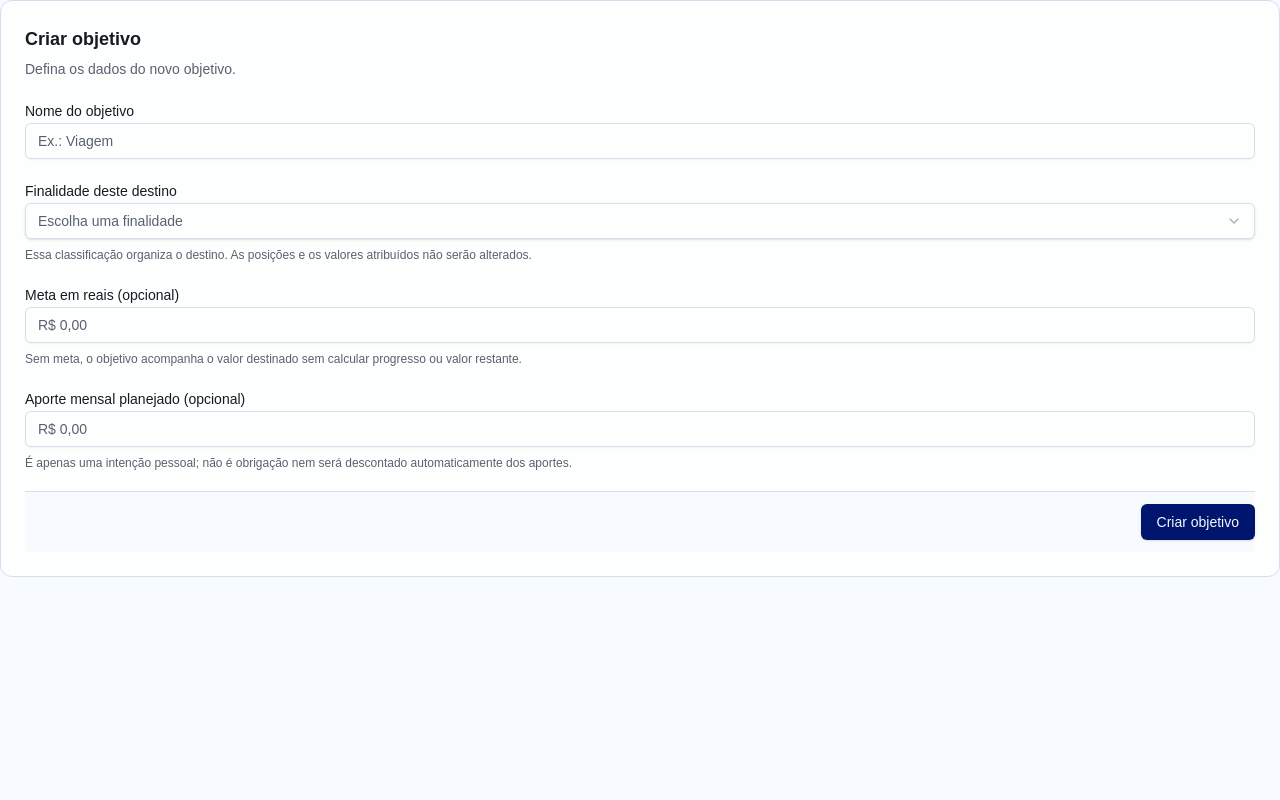
Test: PortfolioObjectiveForm › requires an explicit destination purpose when creating a goal
The image size is (1280, 800).
Type "Investir no longo prazo" into the field labelled "Nome do objetivo" at point(640, 141), box [25,123,1255,159]
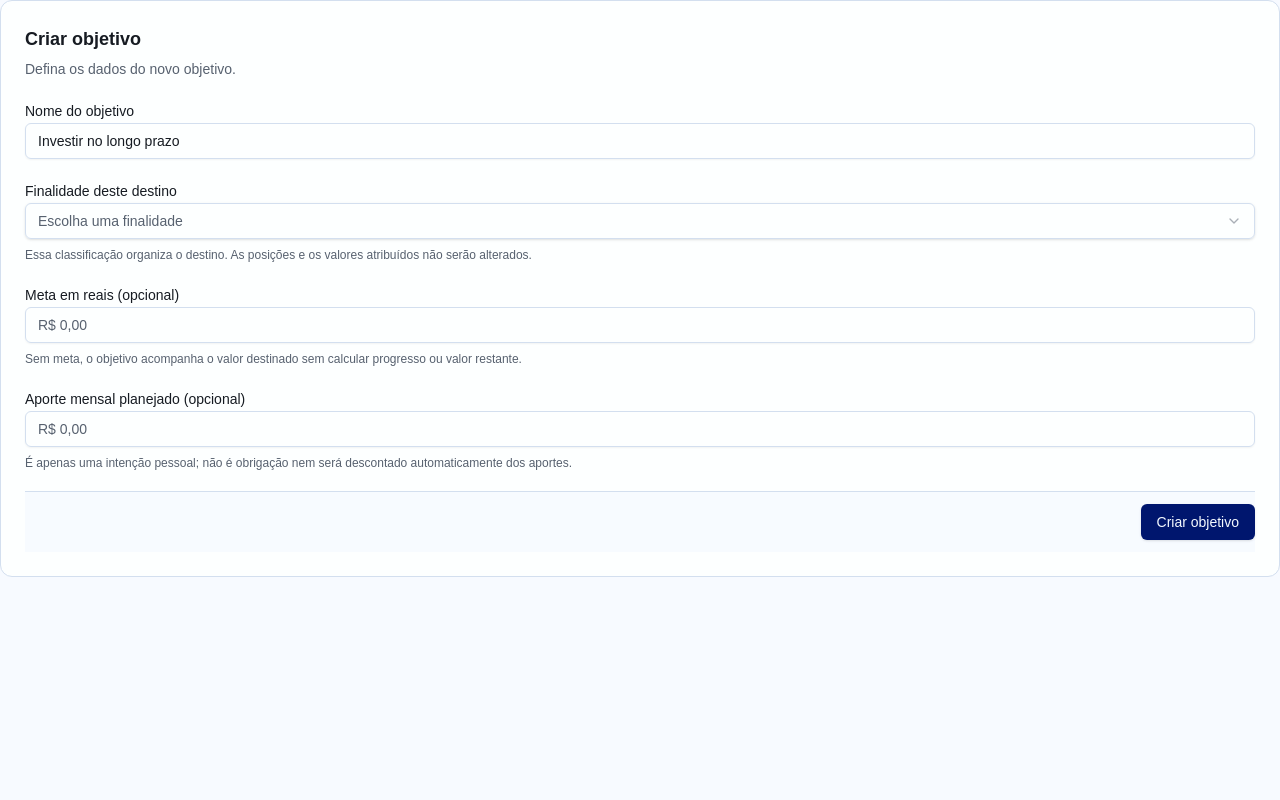
Click the button "Criar objetivo" at point(1198, 522), box [1140,504,1255,540]
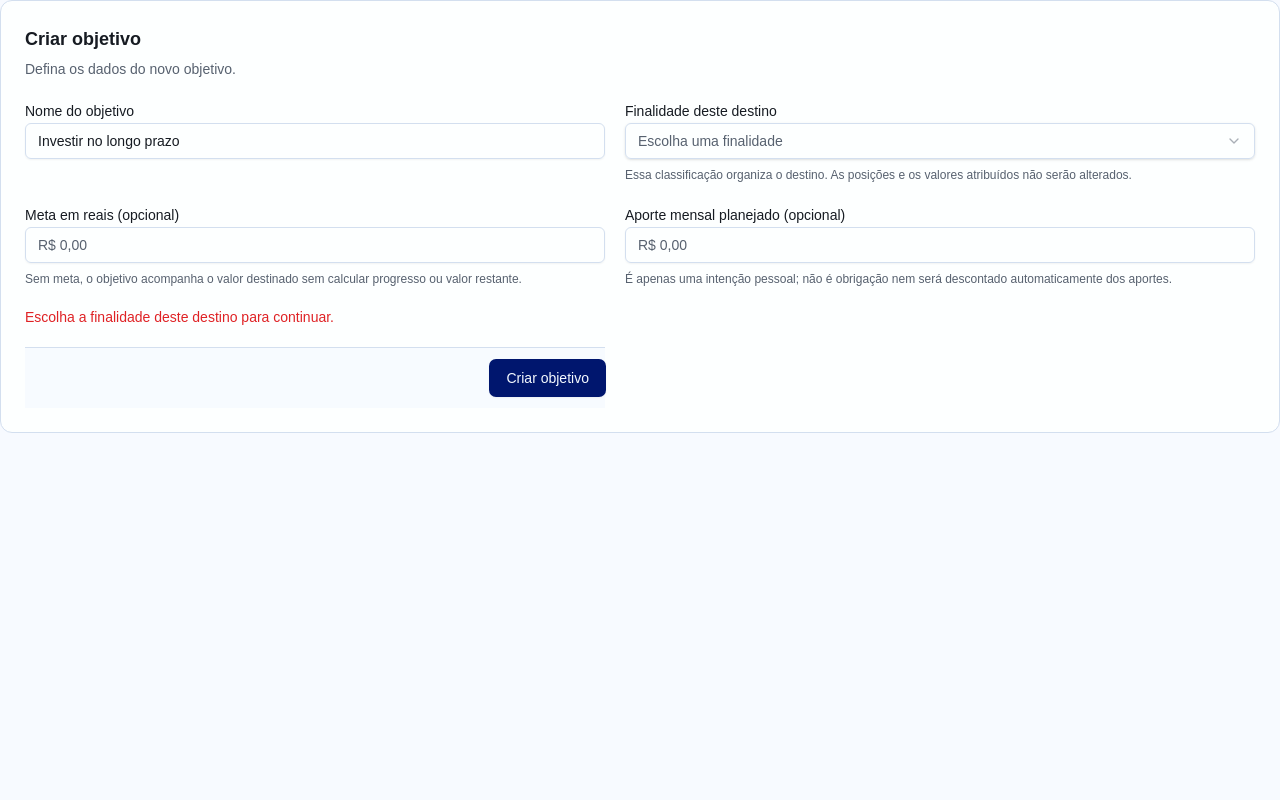
Now the message reads "Escolha a finalidade deste destino para continuar.", box [25,309,334,325]
